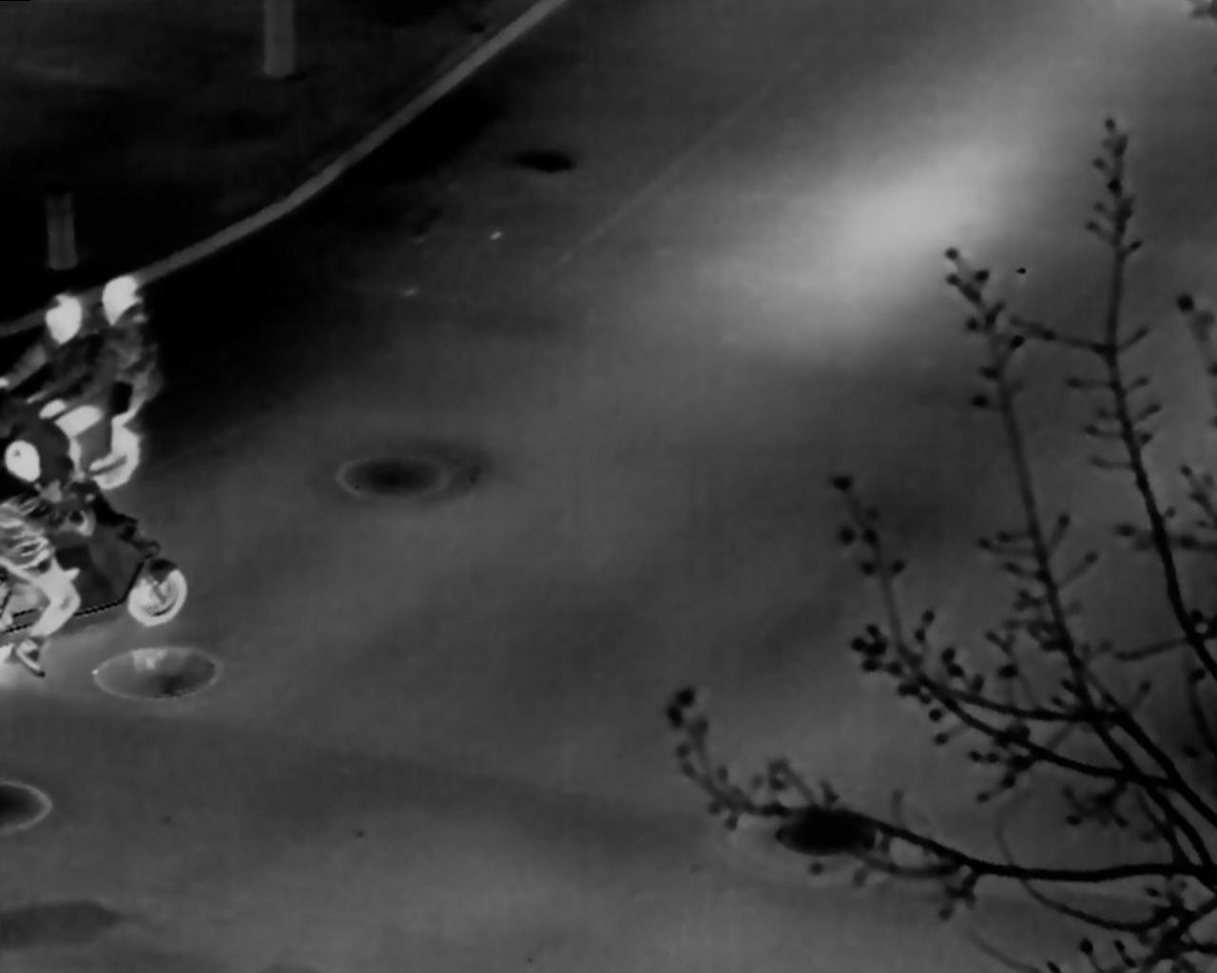person: (95, 268, 157, 475)
